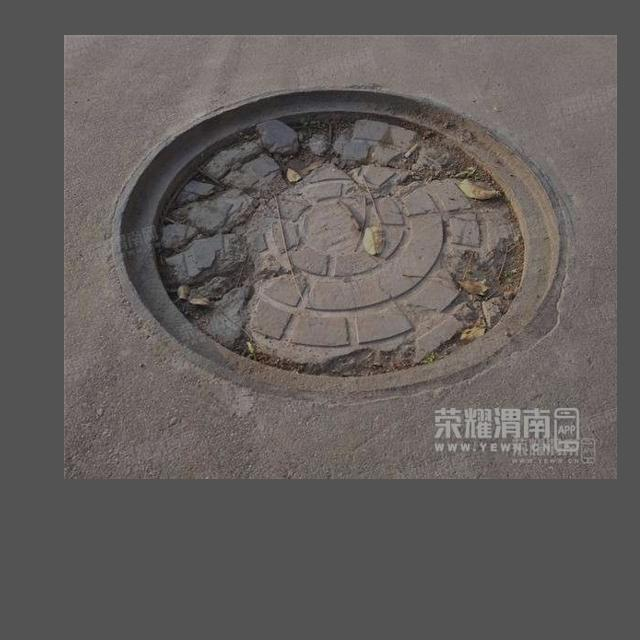broke: (102, 77, 575, 397)
